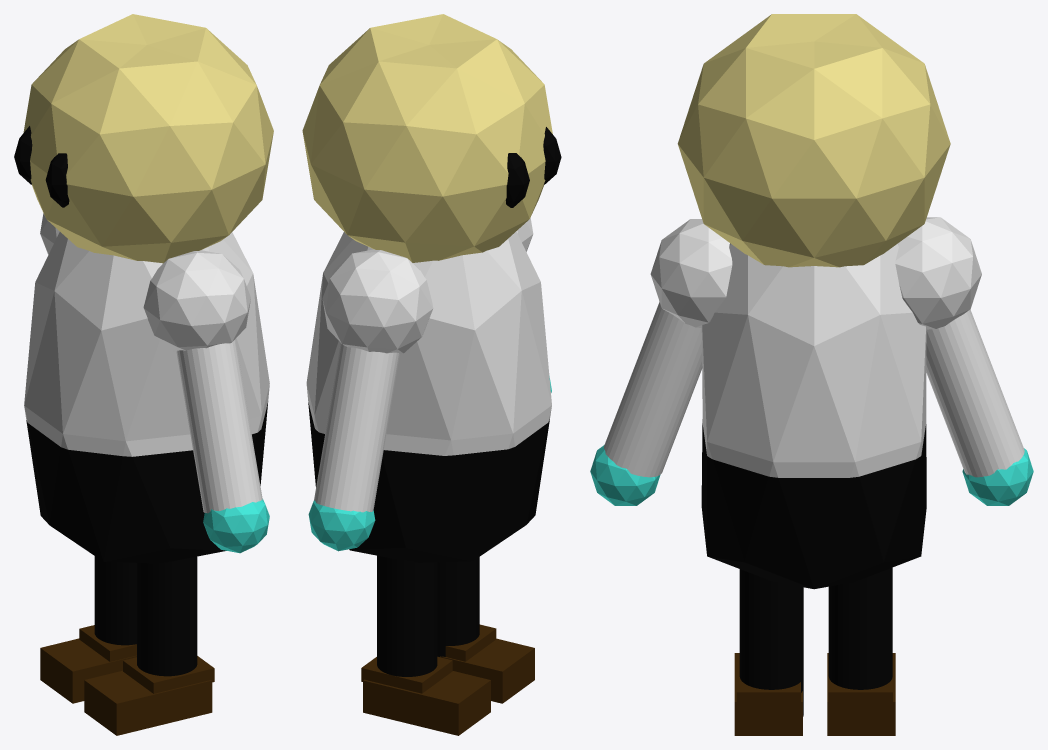
Rendered from playerER.fbx.
3 renders of one model, left to right at view 1: azimuth 30°, elevation 25°; view 2: azimuth 150°, elevation 25°; view 3: azimuth 270°, elevation 25°, orthographic. The views are drawn at different scales.
Visible parts, largest first — view 1: Icosphere.001, Icosphere, Icosphere.009, Cylinder.001, Icosphere.005, Cylinder.003, Cube.001, Cylinder.002, Cube, Icosphere.007, Cube.002, Icosphere.003 (+2 smaller); view 2: Icosphere.001, Icosphere, Icosphere.009, Cylinder, Icosphere.004, Cylinder.002, Cube, Cylinder.003, Cube.001, Icosphere.006, Cube.003, Icosphere.002 (+2 smaller); view 3: Icosphere.001, Icosphere, Icosphere.009, Cylinder.001, Cylinder, Icosphere.004, Cylinder.002, Cylinder.003, Icosphere.005, Cube, Cube.001, Icosphere.007 (+3 smaller).
Part boxes in pixels (x1,y1,x2,y2): Icosphere.001: (23,14,273,263); Icosphere: (24,232,269,456); Icosphere.009: (26,403,267,563); Cylinder.001: (176,339,262,513); Icosphere.005: (143,250,250,352); Cylinder.003: (137,556,197,676); Cube.001: (84,670,212,735); Cylinder.002: (94,556,136,645); Cube: (40,638,136,703); Icosphere.007: (203,499,269,553); Cube.002: (123,656,214,693); Icosphere.003: (45,153,69,207); Icosphere.001: (302,14,552,262); Icosphere: (306,231,551,455); Icosphere.009: (308,402,549,562); Cylinder: (314,343,399,512); Icosphere.004: (322,249,433,353); Cylinder.002: (377,555,437,676); Cube: (363,671,490,735); Cylinder.003: (437,557,479,656); Cube.001: (440,638,534,703); Icosphere.006: (308,500,375,551); Cube.003: (361,656,452,693); Icosphere.002: (505,153,529,207); Icosphere.001: (677,14,950,267); Icosphere: (701,243,926,477); Icosphere.009: (701,423,926,589); Cylinder.001: (603,302,702,477); Cylinder: (926,309,1024,477); Icosphere.004: (895,217,981,329); Cylinder.002: (828,567,892,689); Cylinder.003: (739,569,803,716); Icosphere.005: (650,219,732,327); Cube: (827,653,895,735); Cube.001: (734,653,802,735); Icosphere.007: (590,445,660,505).
Bounding box in the file's own units: 96.29 × 271 × 159.
